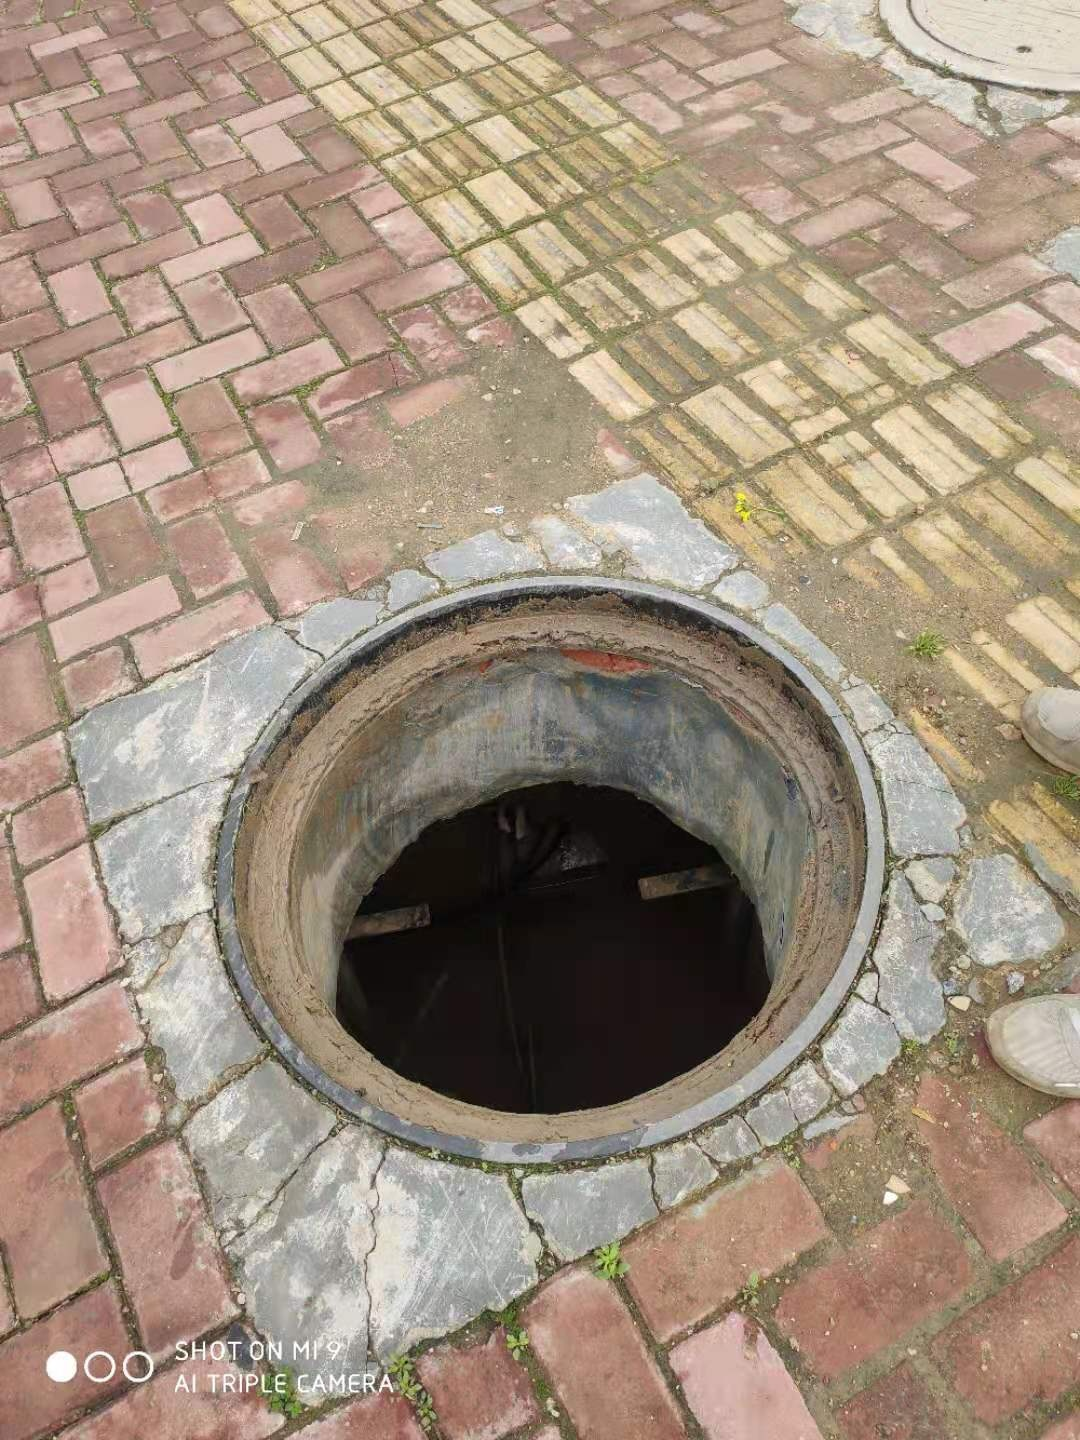lose: (209, 576, 889, 1175)
